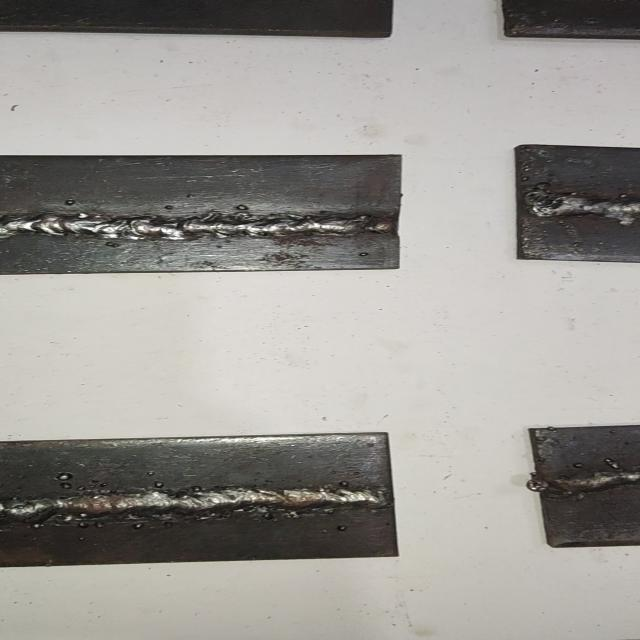Good Weld: (0, 484, 393, 524), (0, 211, 403, 240), (520, 187, 640, 221), (538, 470, 640, 499)
